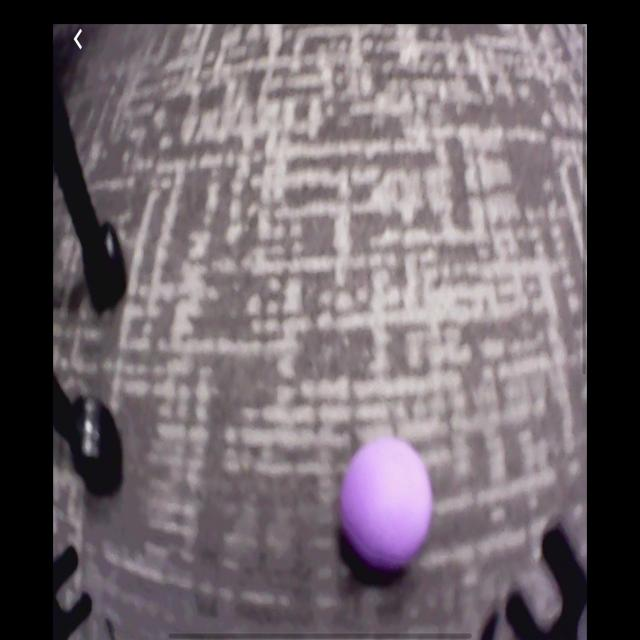ball: (340, 437, 434, 573)
